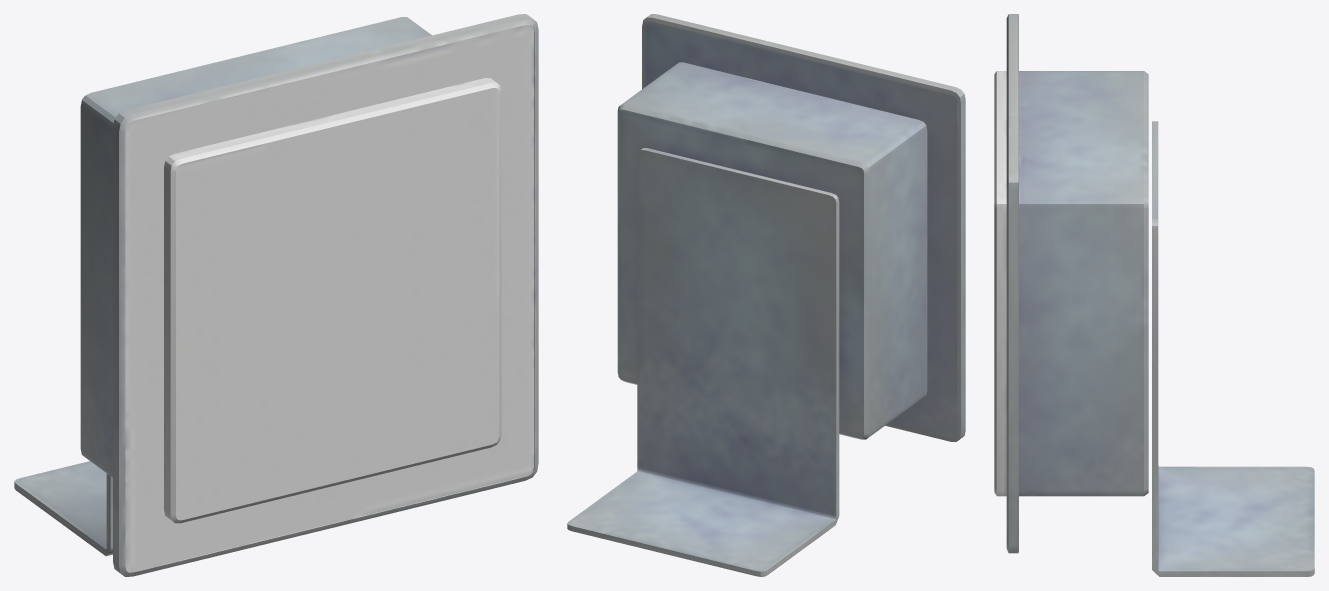
The model's file is sm_hmbradar_a.fbx.
The picture shows the model from 3 angles, left to right: view 1: azimuth 30°, elevation 25°; view 2: azimuth 150°, elevation 25°; view 3: azimuth 270°, elevation 25°; orthographic projection. The views are drawn at different scales.
Visible parts, largest first — view 1: sm_hmbradar_a; view 2: sm_hmbradar_a; view 3: sm_hmbradar_a.
Boxes of the visible parts, bbox=[...] form: sm_hmbradar_a: bbox=[14, 14, 538, 576]; sm_hmbradar_a: bbox=[567, 14, 965, 576]; sm_hmbradar_a: bbox=[994, 14, 1314, 576].
Size of the model in its own units: 0.171 by 0.2046 by 0.138.
